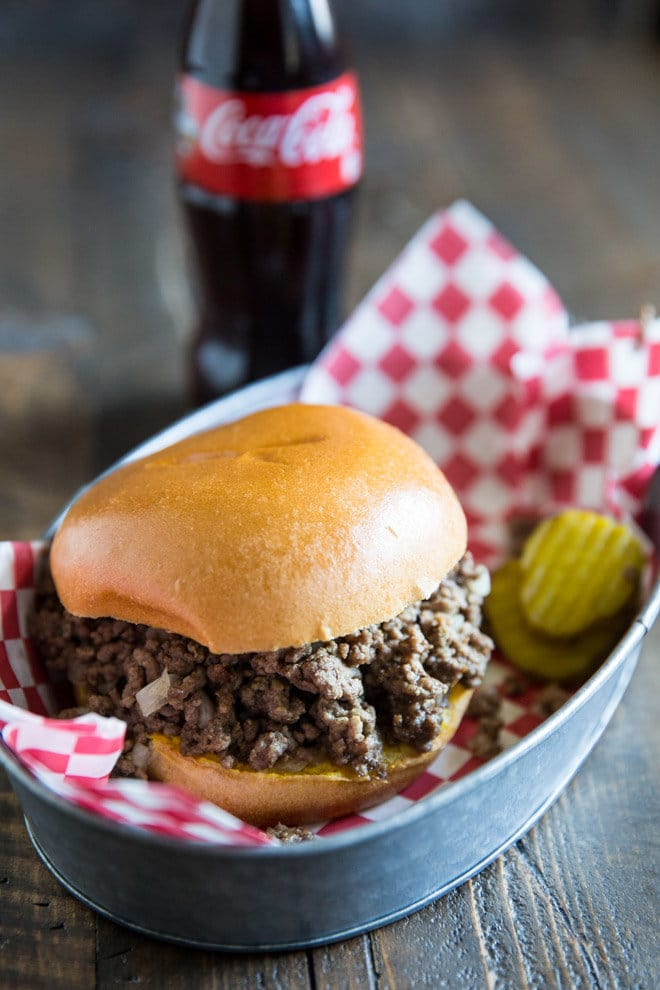hamburger_buns: (34, 398, 503, 818)
